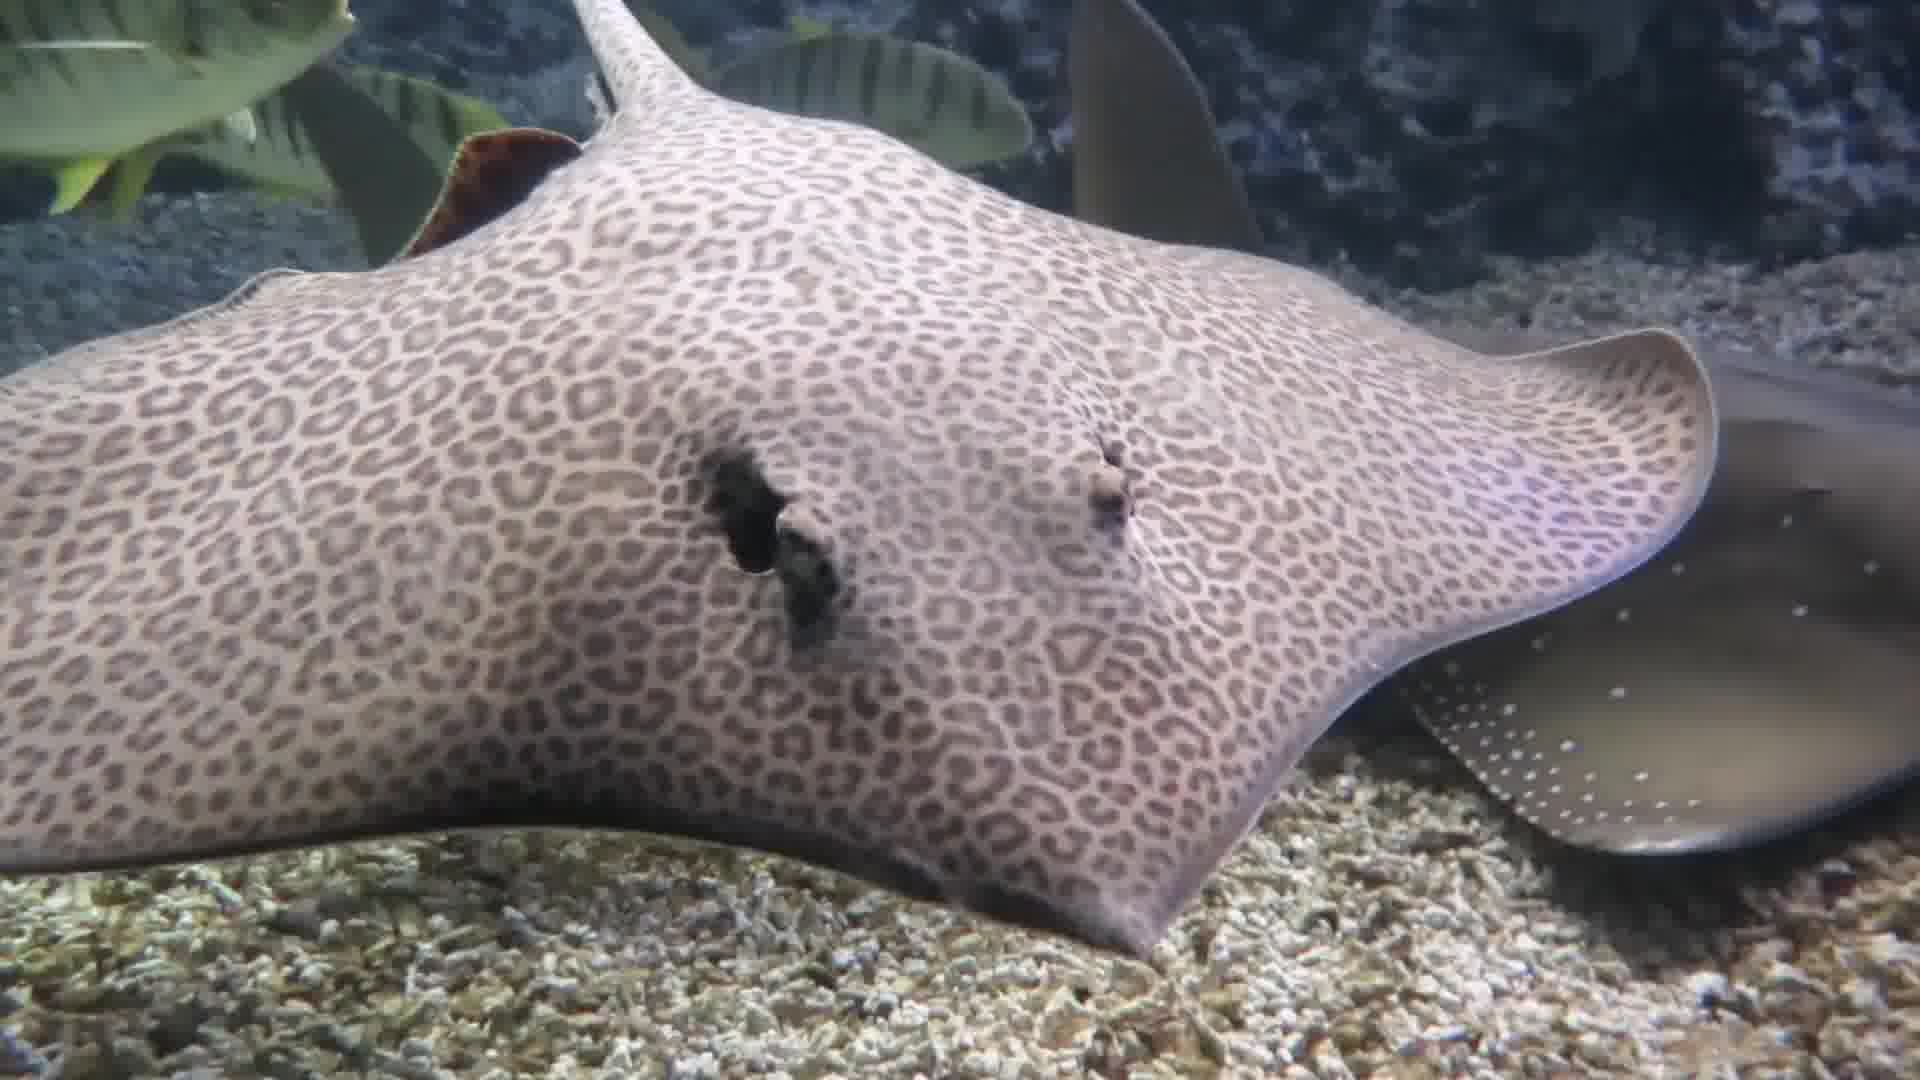Himantura uarnak: (1, 1, 1724, 971)
